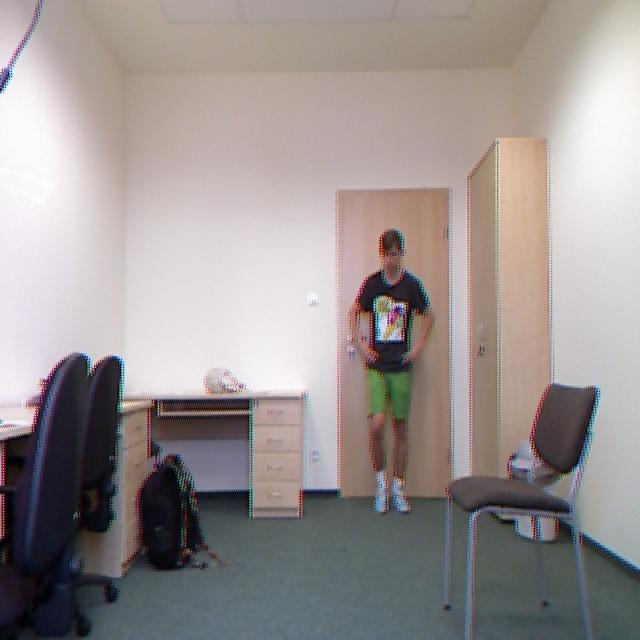walking: (335, 231, 435, 519)
